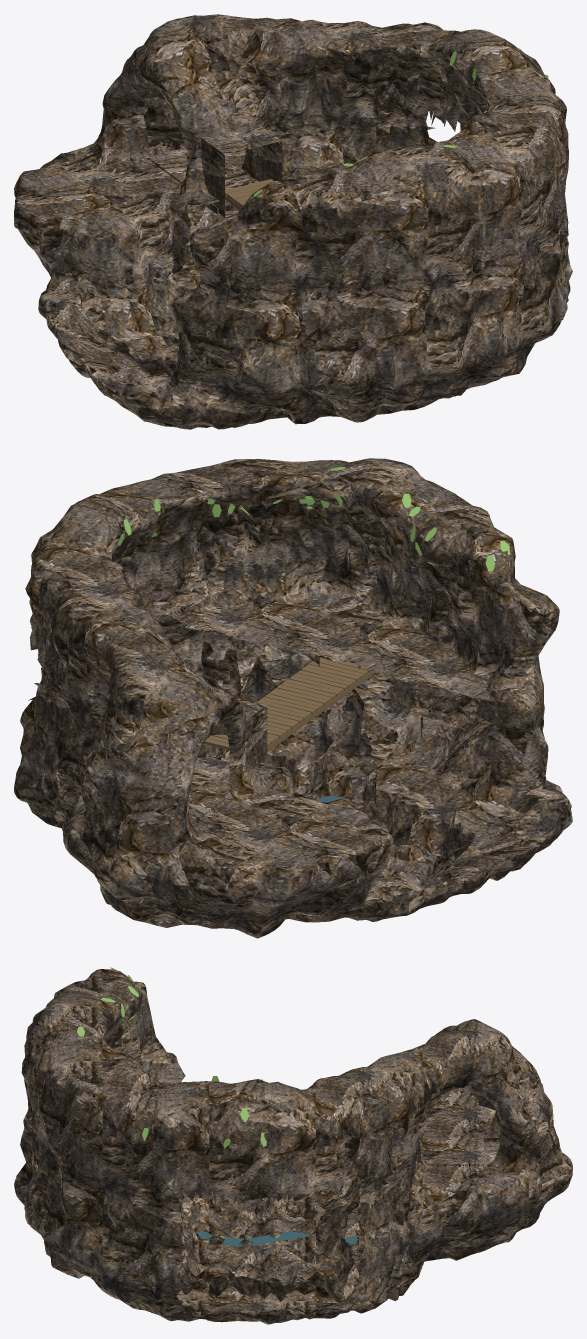
The model's file is narrow-tunnel-room-v1.glb.
3 renders of one model, top to bottom at view 1: azimuth 30°, elevation 25°; view 2: azimuth 150°, elevation 25°; view 3: azimuth 270°, elevation 25°, orthographic. The views are drawn at different scales.
Visible parts, largest first — view 1: generated_narrow_tunnel, near_bank_floor, wooden_footbridge; view 2: generated_narrow_tunnel, wooden_footbridge, near_bank_floor, high_moss; view 3: generated_narrow_tunnel, near_bank_floor, stream_below, high_moss.
Boxes of the visible parts, bbox=[...] form: generated_narrow_tunnel: bbox=[14, 14, 572, 429]; near_bank_floor: bbox=[151, 151, 258, 214]; wooden_footbridge: bbox=[225, 179, 273, 209]; generated_narrow_tunnel: bbox=[14, 458, 572, 938]; wooden_footbridge: bbox=[202, 657, 373, 752]; near_bank_floor: bbox=[188, 756, 230, 823]; high_moss: bbox=[71, 467, 509, 571]; generated_narrow_tunnel: bbox=[14, 969, 572, 1324]; near_bank_floor: bbox=[420, 1137, 483, 1166]; stream_below: bbox=[182, 1231, 359, 1246]; high_moss: bbox=[77, 967, 266, 1148].
Size of the model in its own units: 20.54 by 12 by 23.82.
4 materials, 1 textured.
